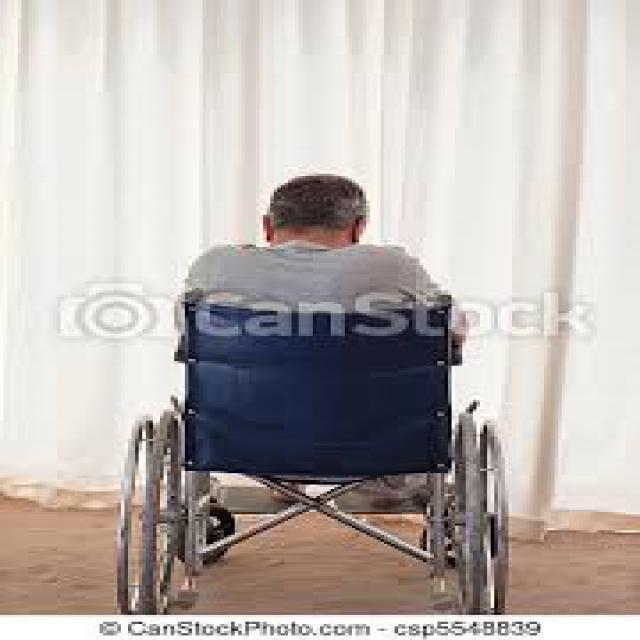wheelchairs: (103, 288, 544, 615)
